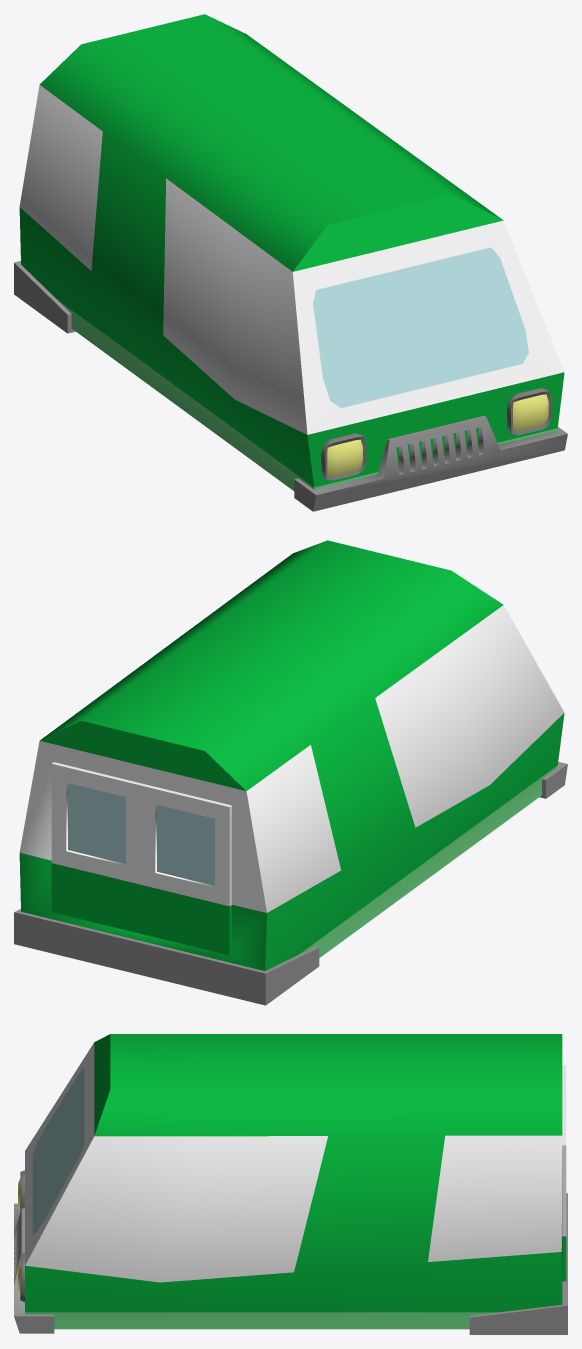
File: BeetleCarBody.fbx
The picture shows the model from 3 angles, top to bottom: view 1: azimuth 30°, elevation 25°; view 2: azimuth 150°, elevation 25°; view 3: azimuth 270°, elevation 25°; orthographic projection. The views are drawn at different scales.
Visible parts, largest first — view 1: BEETLE_Body, BEETLE_Windshield, BeetleFrontBumper, BeetleLamps.R, BeetleLamps.L, BeetleBackBumper; view 2: BEETLE_Body, BEETLE_Door.R.001, BEETLE_Door.L, BeetleBackBumper, BeetleFrontBumper; view 3: BEETLE_Body, BEETLE_Windshield, BeetleBackBumper, BeetleFrontBumper, BEETLE_Door.L.
Part boxes in pixels (<box>): BEETLE_Body: <box>19,14,564,490</box>; BEETLE_Windshield: <box>313,247,528,407</box>; BeetleFrontBumper: <box>294,415,567,511</box>; BeetleLamps.R: <box>321,433,366,480</box>; BeetleLamps.L: <box>507,388,551,435</box>; BeetleBackBumper: <box>14,261,75,333</box>; BEETLE_Body: <box>19,540,564,970</box>; BEETLE_Door.R.001: <box>140,784,231,955</box>; BEETLE_Door.L: <box>51,762,142,933</box>; BeetleBackBumper: <box>14,909,319,1005</box>; BeetleFrontBumper: <box>539,762,567,798</box>; BEETLE_Body: <box>25,1034,562,1329</box>; BEETLE_Windshield: <box>32,1067,84,1234</box>; BeetleBackBumper: <box>469,1193,567,1334</box>; BeetleFrontBumper: <box>14,1203,54,1333</box>; BEETLE_Door.L: <box>562,1105,566,1281</box>.
Bounding box in the file's own units: 3.2 × 6.51 × 2.81.
